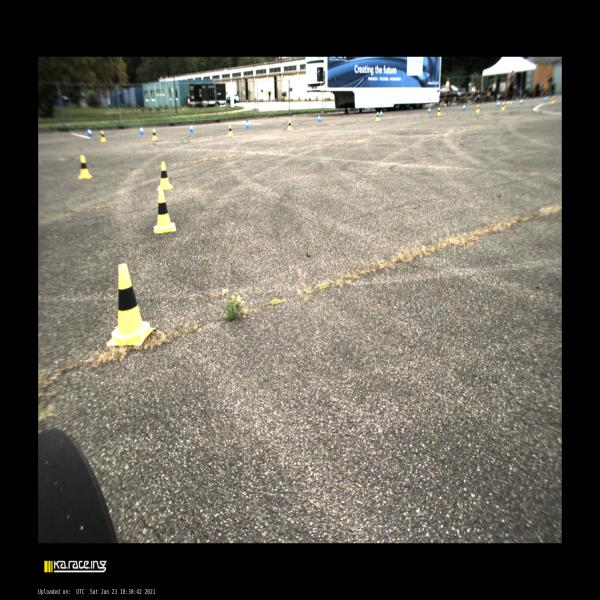blue_cone: (245, 119, 250, 129), (189, 124, 194, 132), (140, 125, 144, 135), (87, 128, 92, 136), (317, 115, 322, 122), (544, 95, 548, 102), (380, 110, 384, 117), (428, 106, 431, 114), (497, 100, 500, 107), (520, 98, 523, 104), (463, 104, 465, 110)
yellow_cone: (106, 263, 156, 346), (153, 189, 176, 233), (156, 162, 173, 189), (78, 155, 92, 179), (151, 128, 158, 140), (227, 124, 234, 136), (100, 130, 106, 142), (287, 120, 293, 130), (375, 111, 380, 121), (437, 107, 441, 116), (501, 102, 505, 110), (551, 96, 555, 104), (476, 104, 479, 113)
